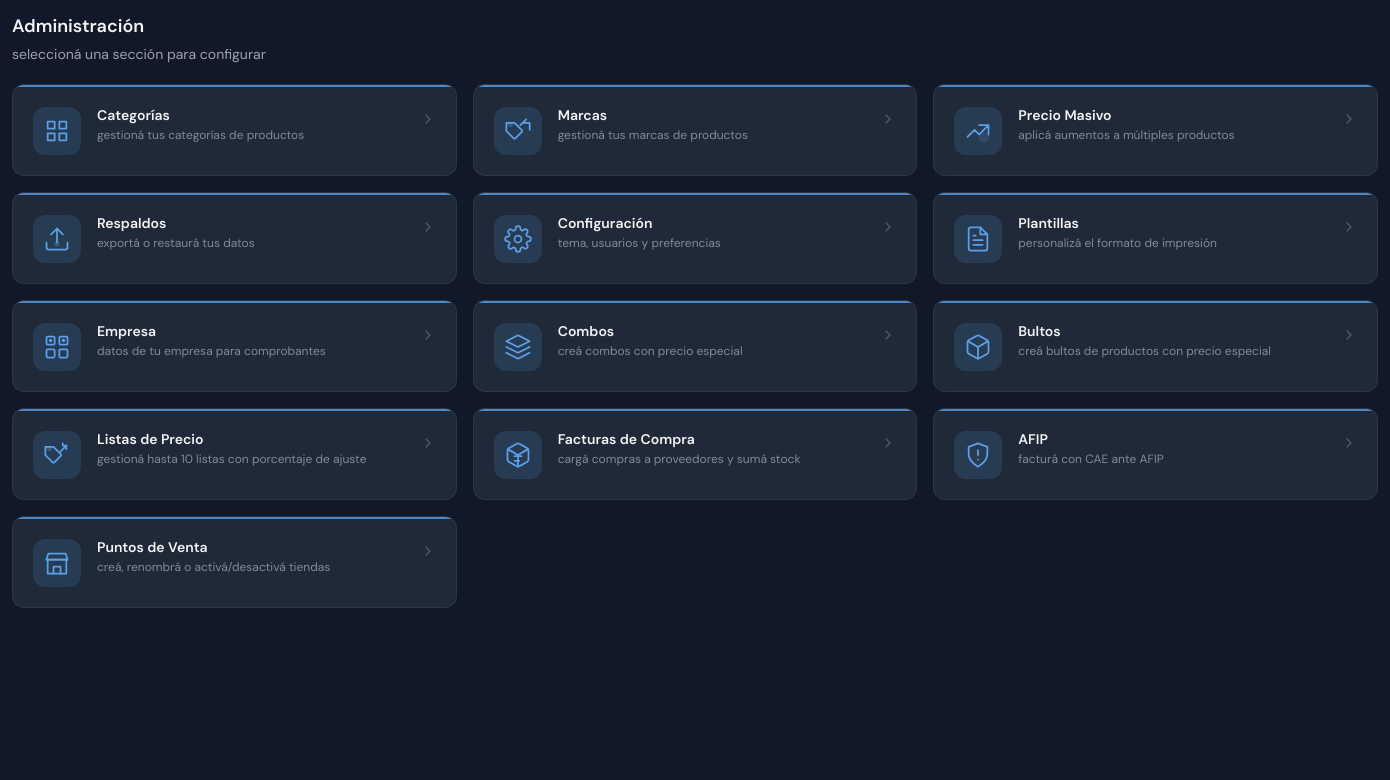
Test: AdminPage — Settings Tab › shows Gestionar button in settings tab
The image size is (1390, 780).
Click the heading "Configuración": (605, 223) [558, 214, 652, 232]
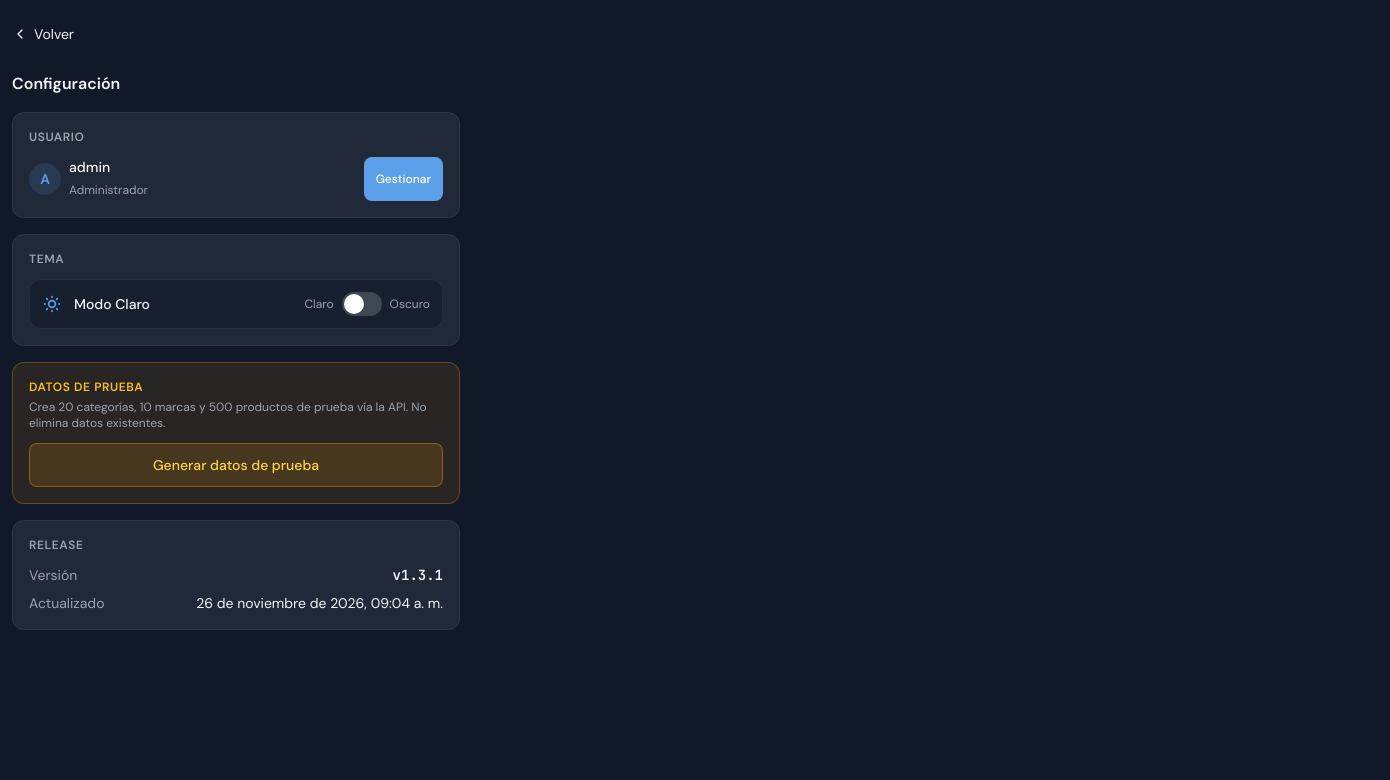
Check: the button "Gestionar" is shown, box [364, 157, 443, 201]
